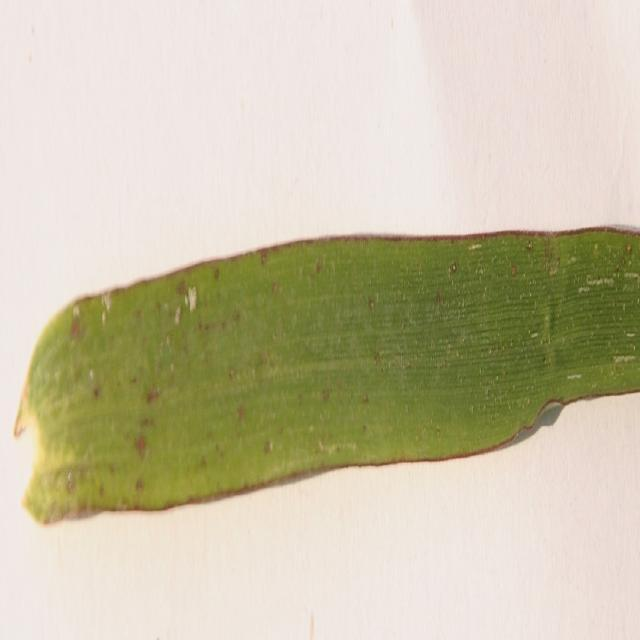Leafsmut: (194, 316, 235, 334), (104, 285, 129, 304), (584, 274, 615, 287), (13, 413, 27, 438), (134, 435, 147, 457), (69, 318, 82, 338), (614, 354, 638, 364), (257, 247, 271, 264), (175, 280, 189, 297), (322, 441, 339, 455), (474, 264, 487, 278), (256, 352, 268, 367), (236, 405, 247, 421), (66, 475, 76, 492), (103, 294, 112, 312), (189, 287, 196, 310), (147, 388, 158, 402), (434, 292, 445, 306), (314, 259, 324, 274), (183, 291, 191, 309), (174, 306, 182, 324), (140, 416, 152, 428), (91, 385, 101, 399), (321, 388, 331, 402), (317, 440, 328, 452), (623, 271, 639, 279), (367, 296, 376, 310), (448, 262, 458, 274), (548, 265, 558, 277), (232, 310, 242, 322), (271, 282, 281, 294), (214, 444, 224, 456), (154, 300, 164, 312), (566, 373, 583, 380), (263, 441, 272, 454), (212, 268, 221, 281), (72, 304, 80, 318), (135, 481, 144, 493), (373, 352, 382, 364), (228, 368, 237, 380), (467, 243, 482, 250), (66, 471, 74, 484), (578, 286, 591, 294), (161, 301, 170, 312), (510, 264, 518, 276), (88, 368, 95, 381), (199, 458, 208, 468), (134, 309, 143, 319), (567, 256, 578, 264), (101, 311, 107, 325), (98, 484, 105, 496), (129, 375, 138, 384), (625, 244, 633, 254), (614, 266, 622, 276), (164, 335, 170, 347), (449, 237, 457, 246), (529, 331, 539, 338), (484, 388, 491, 398), (526, 242, 534, 250), (361, 396, 369, 404), (434, 426, 442, 434), (361, 424, 368, 433), (169, 362, 175, 372), (308, 425, 315, 433), (594, 243, 600, 252), (626, 332, 636, 337), (494, 375, 500, 382)
